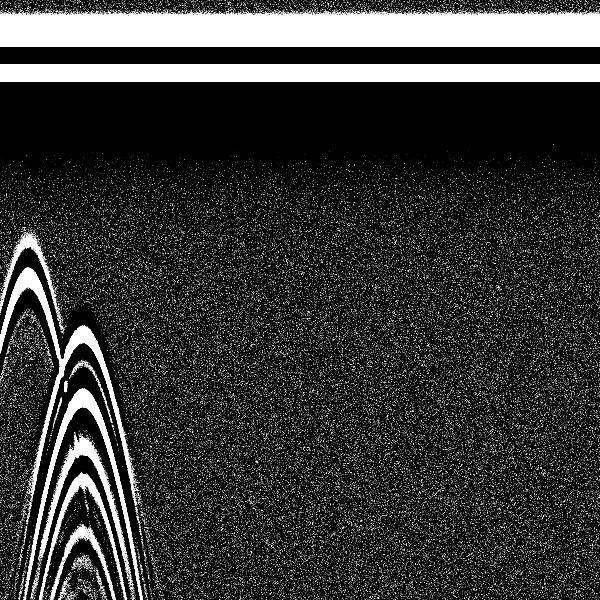pipe: (41, 4, 127, 410), (1, 4, 70, 341)
